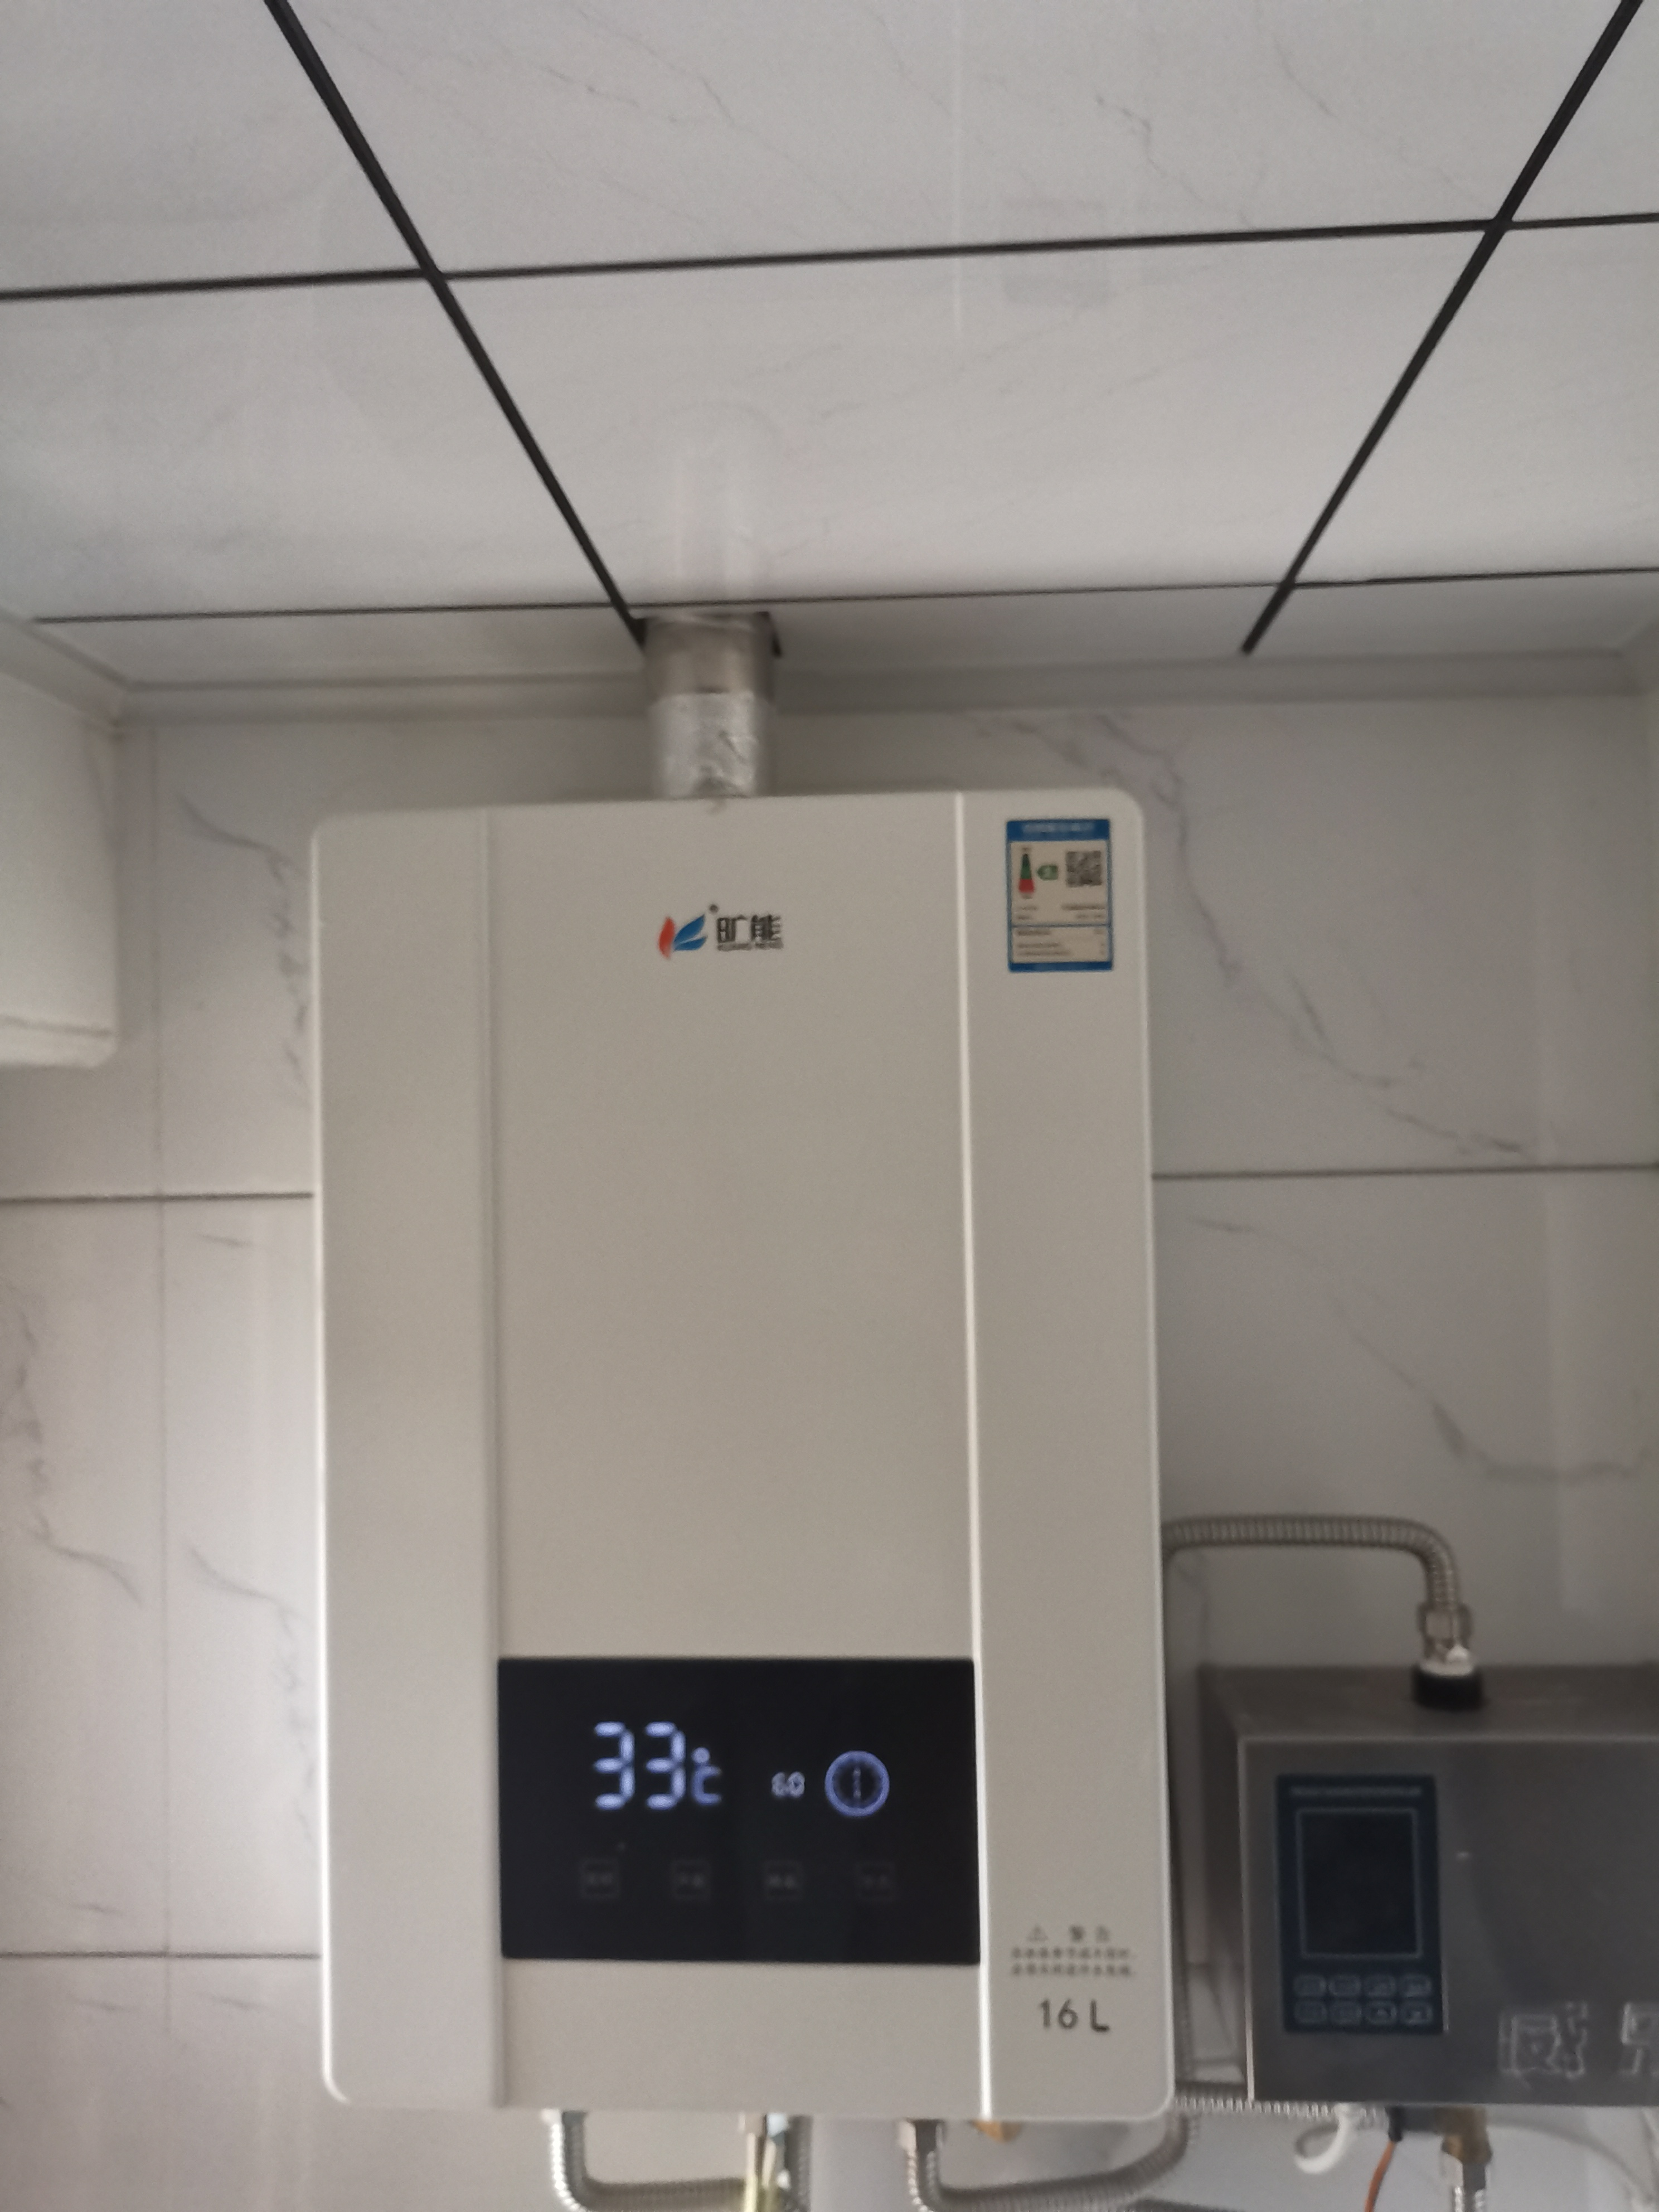loudou: (647, 894, 803, 965)
